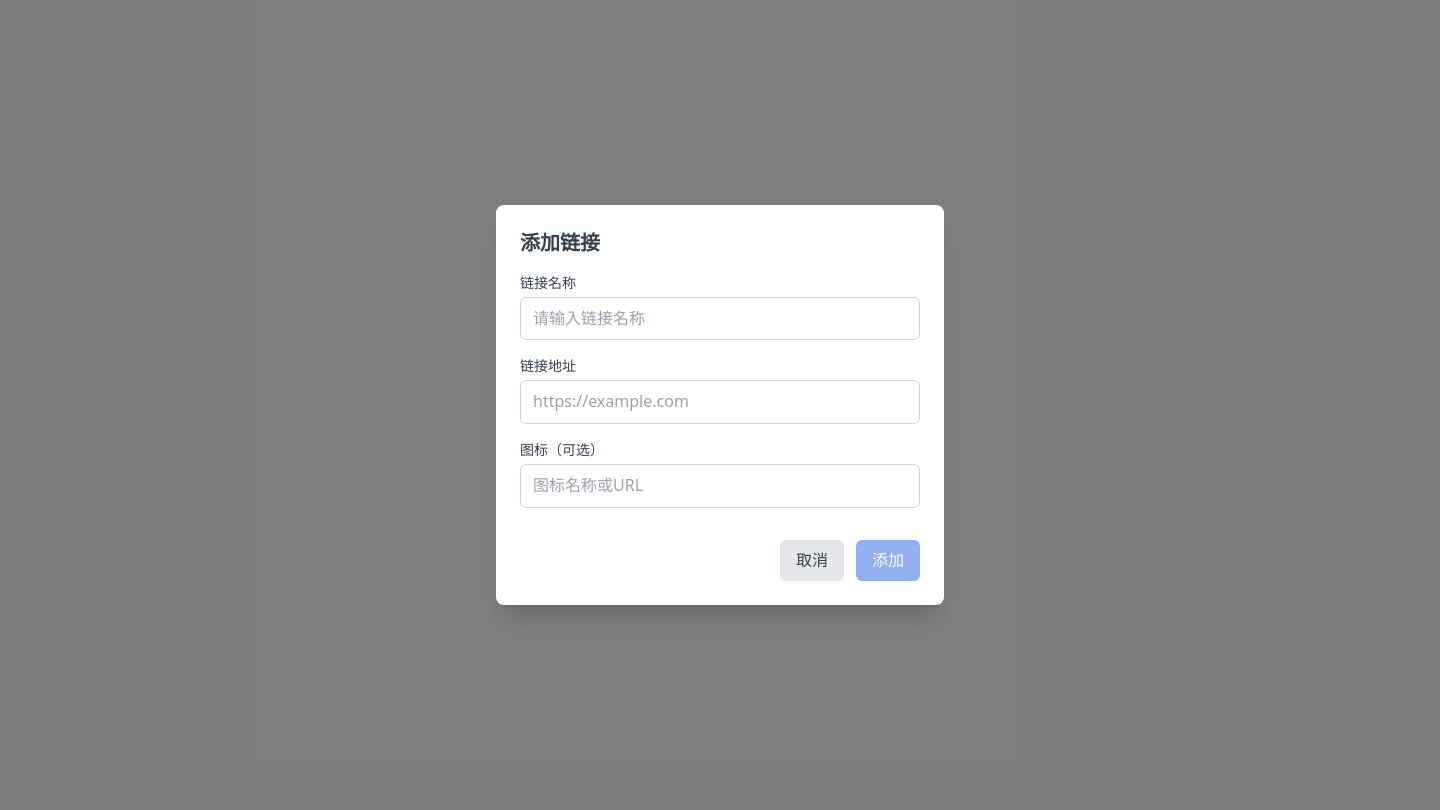
LinkForm › 表单验证 › 应该在所有字段有效时启用提交按钮
// when: 输入有效数据
Type "Test Link" into the field with test id "name-input" at (720, 319), box [520,297,920,340]
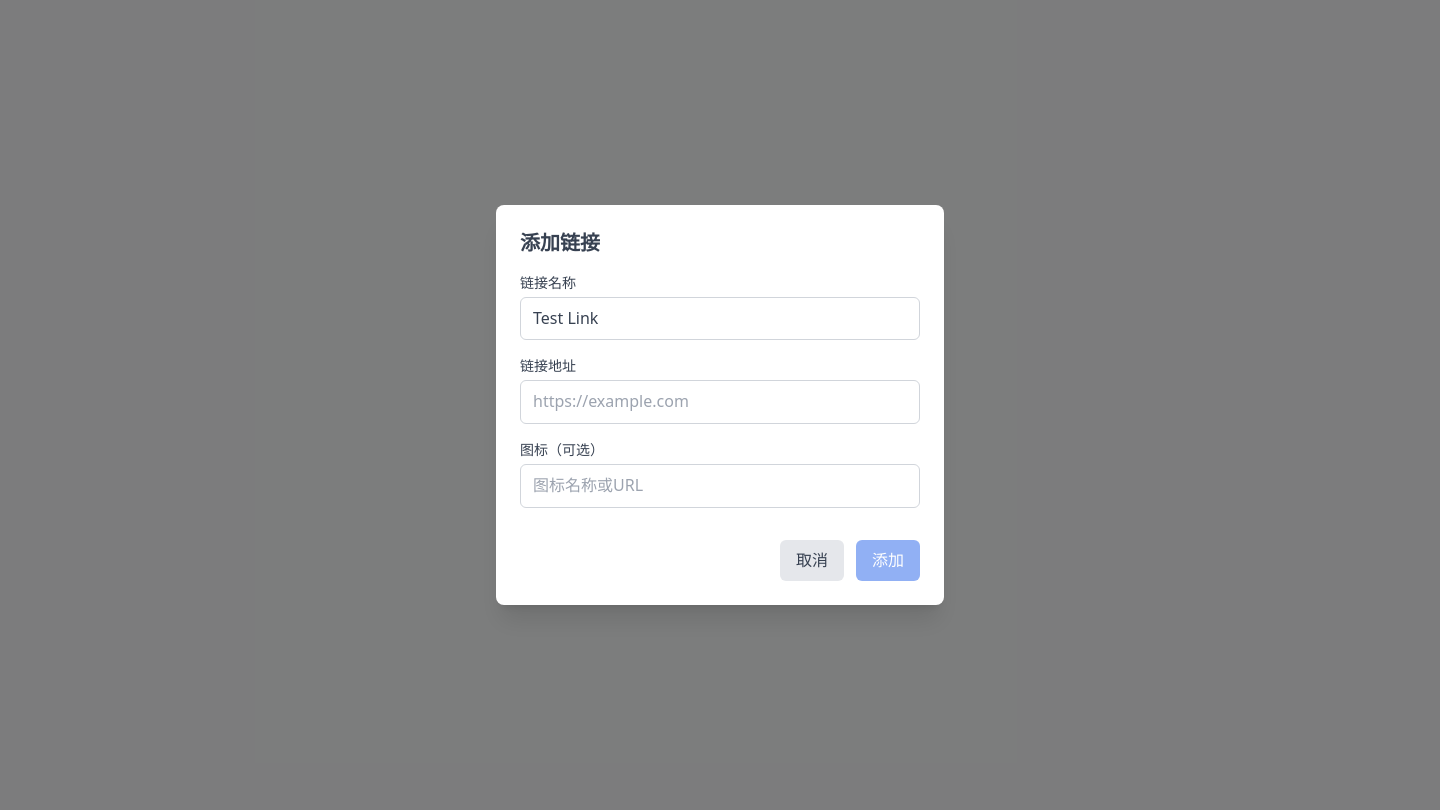
Type "https://test.com" into the field with test id "url-input" at (720, 402), box [520,380,920,424]
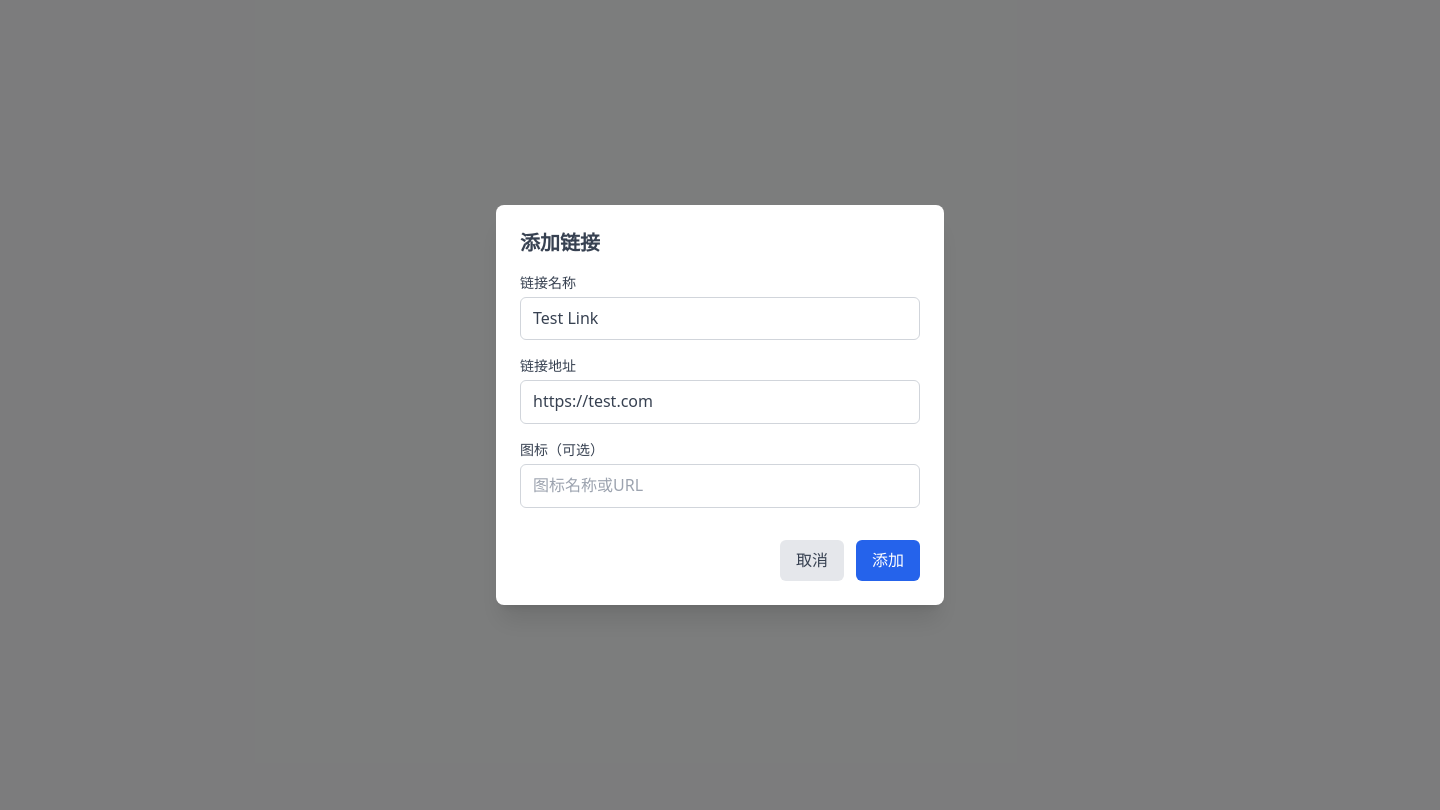
Result: the button with test id "submit-button" is enabled at [856,540,920,581]
